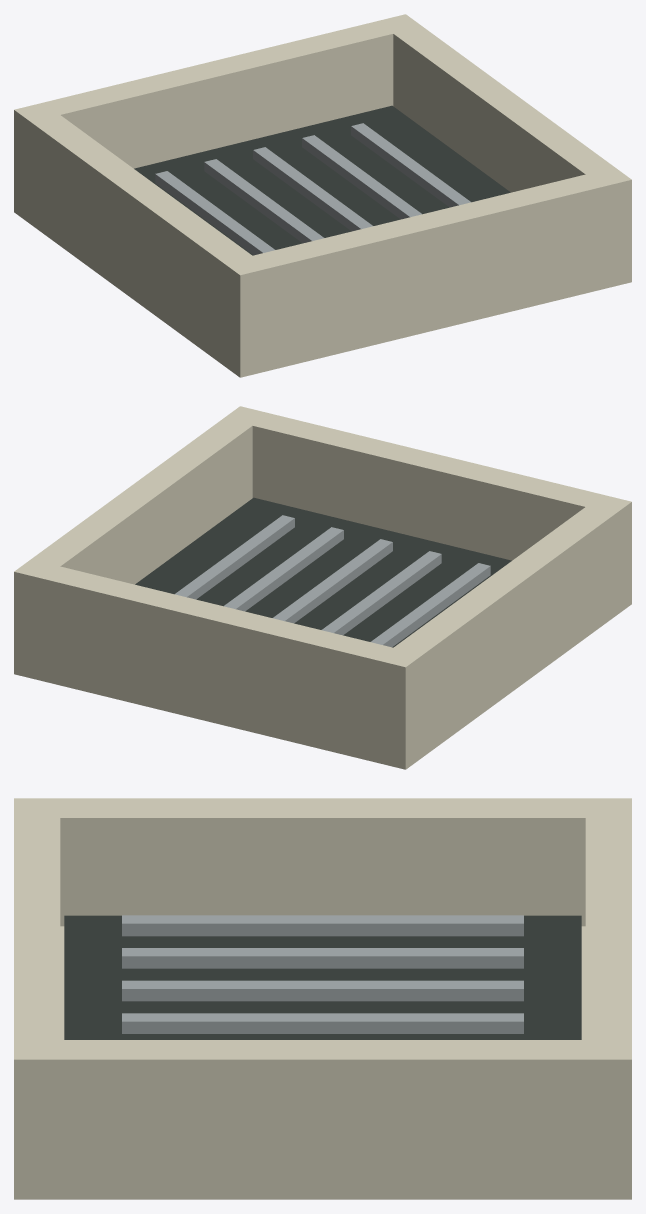
File: bunker-shelter-construction-greywater-sump-a020574f__23367.glb
3 views of the same model, one above another, from view 1: azimuth 30°, elevation 25°; view 2: azimuth 150°, elevation 25°; view 3: azimuth 270°, elevation 25° (orthographic). The views are drawn at different scales.
Visible parts, largest first — view 1: greywater-sump; view 2: greywater-sump; view 3: greywater-sump.
Boxes of the visible parts, x1,y1,x2,y2 form: greywater-sump: (14,14,631,377); greywater-sump: (14,406,631,769); greywater-sump: (14,798,631,1199).
Bounding box in the file's own units: 0.8 × 0.2 × 0.8.
